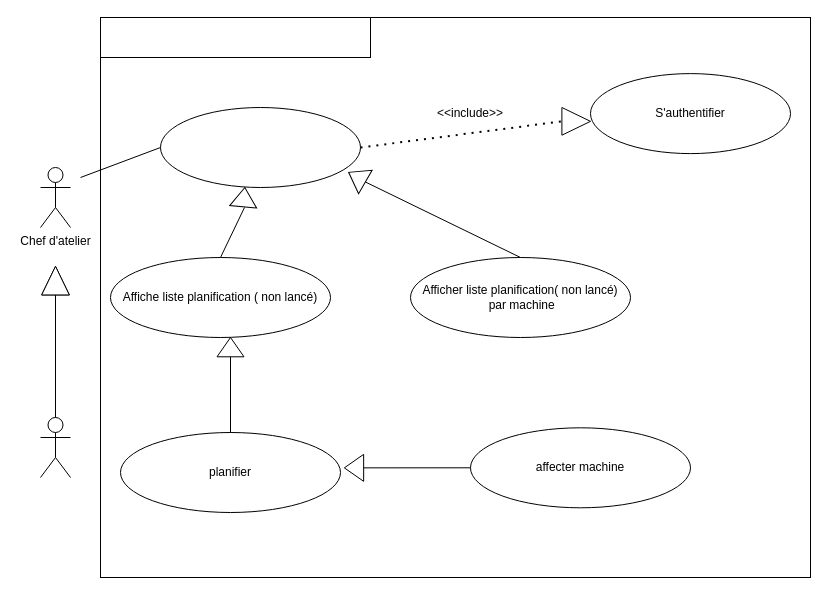
Image size: 828x595. Some labels were removed from this diagram. The shapes that lost their labels are listed below. From the top down, each one's box as (x1, y1, x2, y2) in pixels, then its label:
(100, 16, 370, 58): Gérer planification ( non lancé)
(160, 106, 360, 188): Gérer planification of
(40, 416, 70, 478): administrateur
